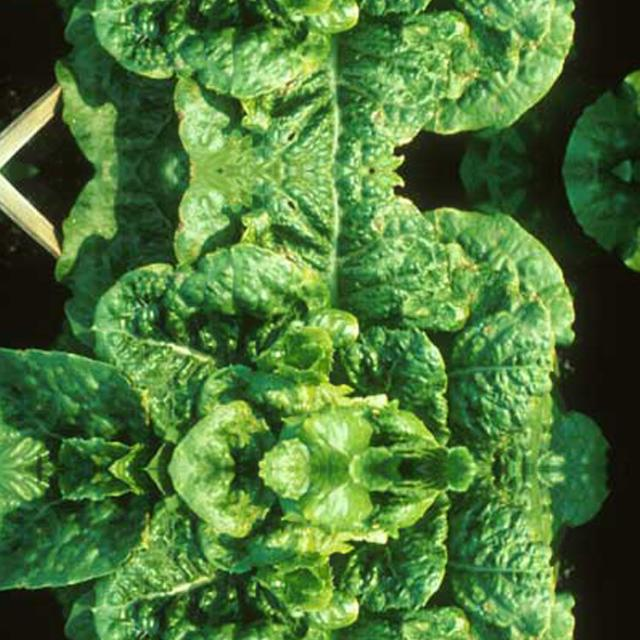lettuce mosaic virus: (253, 172, 447, 321), (253, 20, 447, 168), (111, 265, 253, 377), (456, 317, 556, 469), (456, 469, 556, 621), (111, 561, 253, 640), (111, 0, 253, 75), (253, 616, 447, 640), (455, 0, 556, 23)
